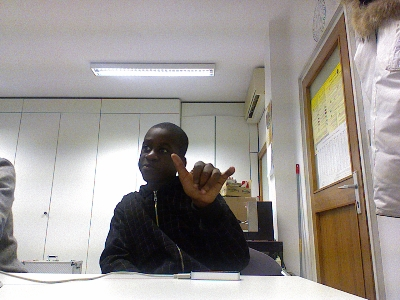六六六: (168, 151, 235, 206)
